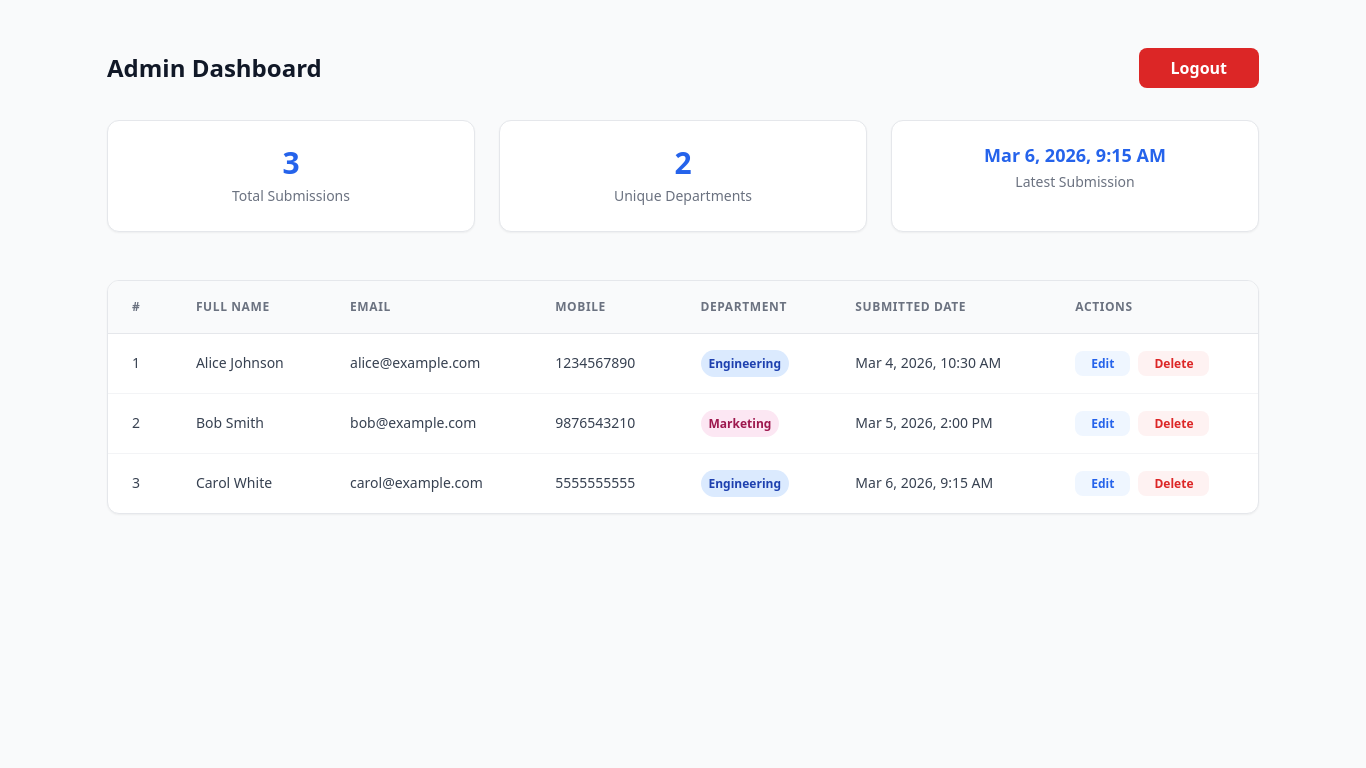
AdminDashboard › edit functionality › opens edit modal when Edit button is clicked
What coordinates should you click on to do the following:
click the button named "Edit Alice Johnson"
I would click on:
 (1103, 363)
Its box is [1075, 351, 1130, 376].
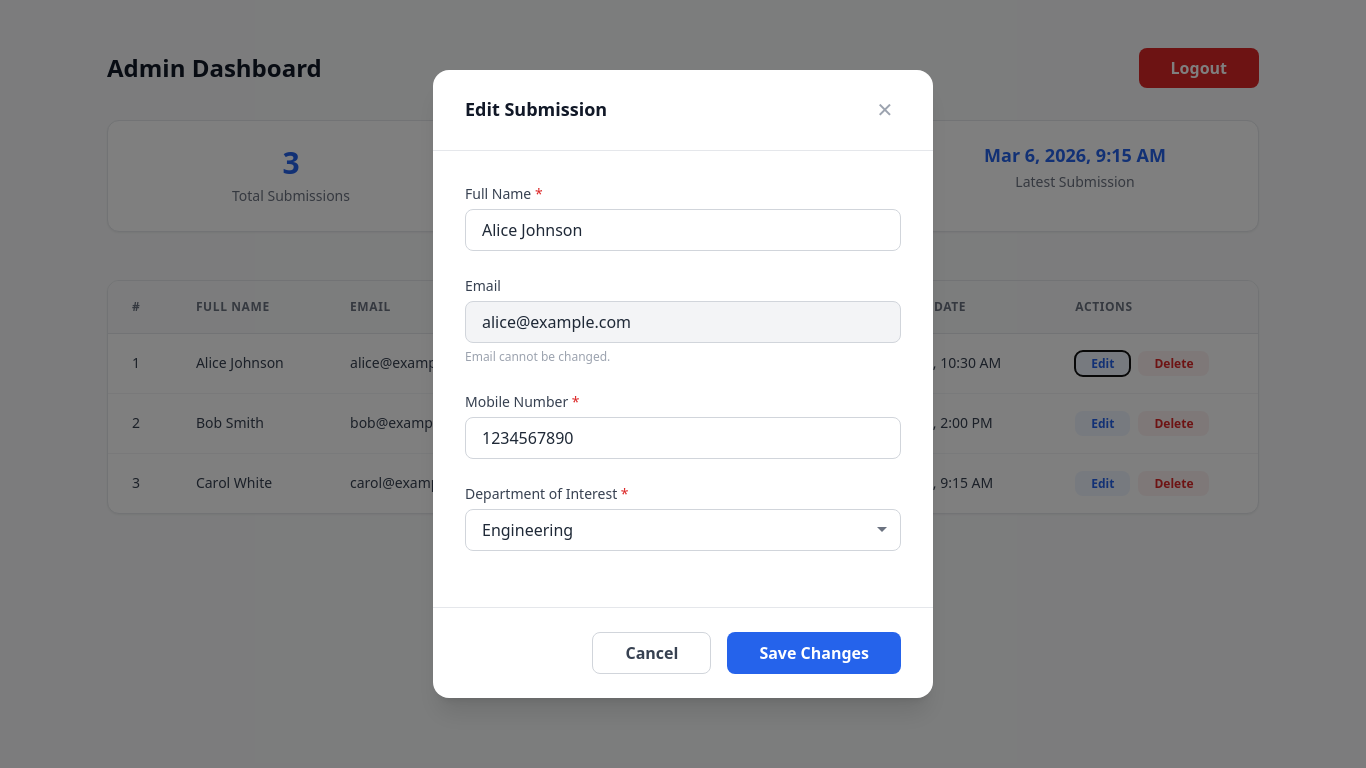
expect the heading "Edit Submission" is shown: met, box [465, 95, 607, 124]
